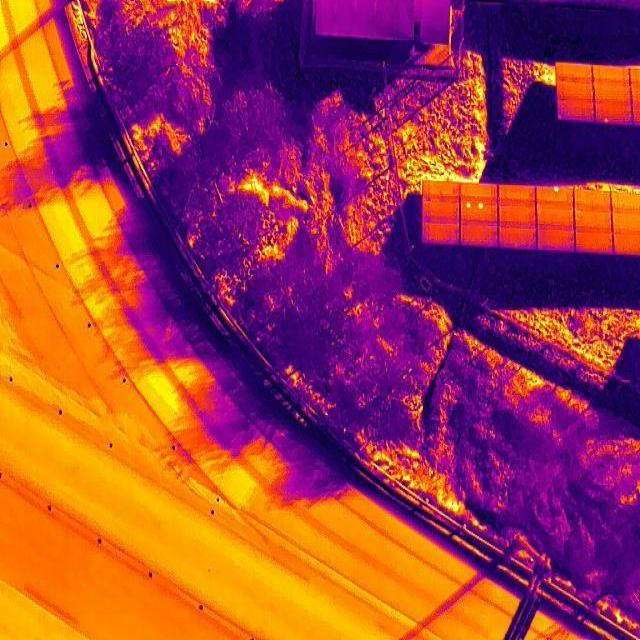Cell: (594, 103, 634, 125), (536, 186, 574, 204)
Cell-Multi: (459, 203, 499, 225)
No-Anomaly: (537, 204, 576, 228), (575, 231, 614, 254), (422, 200, 459, 224), (459, 224, 499, 246), (498, 225, 537, 247), (422, 222, 460, 244), (574, 210, 613, 231), (497, 204, 537, 224), (536, 228, 575, 248), (574, 191, 612, 211), (593, 65, 631, 85), (423, 182, 460, 202), (556, 62, 593, 82), (593, 84, 633, 102), (558, 100, 594, 120), (459, 184, 498, 202), (498, 185, 536, 203), (556, 84, 593, 100)
